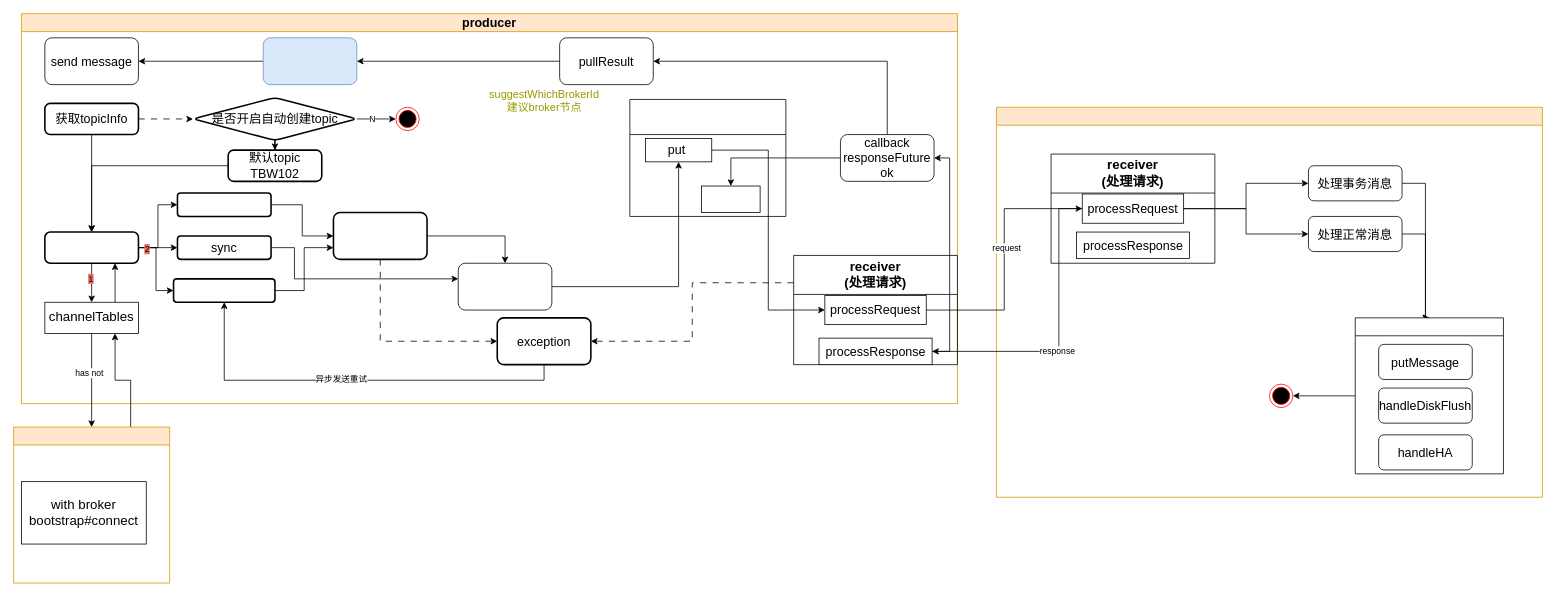
This 1556x597 diagram has some shape labels left out. Each missing label, with the box of its shape:
async: (172, 278, 275, 303)
broker: (996, 106, 1542, 497)
commitLog: (1354, 317, 1503, 474)
nameserv: (13, 426, 170, 583)
oneway: (176, 192, 271, 217)
producer client: (262, 37, 357, 85)
remove: (701, 185, 760, 213)
responseTable ResponseFuture: (629, 99, 786, 216)
sendRequest: (457, 262, 552, 310)
异步请求限流器: (332, 211, 427, 260)
获取broker channel: (44, 231, 139, 264)
